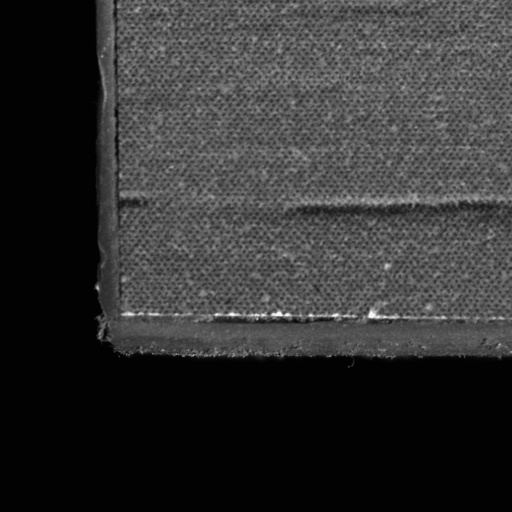jiaofeng: (202, 310, 349, 341)
